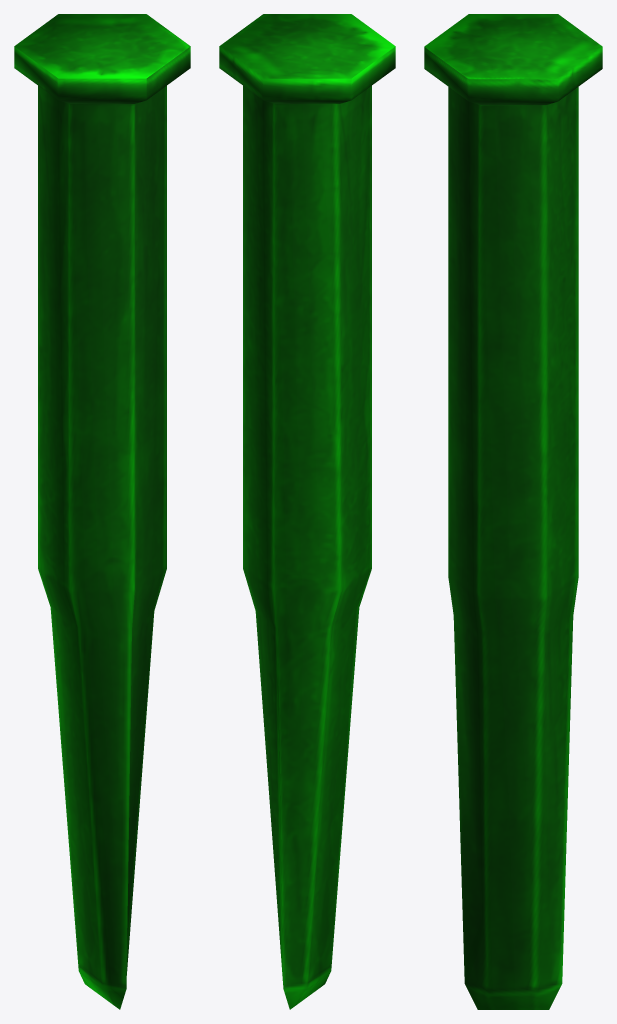
The model's file is Chisel01.fbx.
The picture shows the model from 3 angles, left to right: view 1: azimuth 30°, elevation 25°; view 2: azimuth 150°, elevation 25°; view 3: azimuth 270°, elevation 25°; orthographic projection.
Visible parts, largest first — view 1: Chisel01_LOD0; view 2: Chisel01_LOD0; view 3: Chisel01_LOD0.
Boxes of the visible parts, left/top/right/bottom form: Chisel01_LOD0: left=14, top=14, right=190, bottom=1009; Chisel01_LOD0: left=219, top=14, right=395, bottom=1009; Chisel01_LOD0: left=424, top=14, right=602, bottom=1009.
Size of what is drawn, in the model's own units: 0.0461 by 0.3167 by 0.0532.
